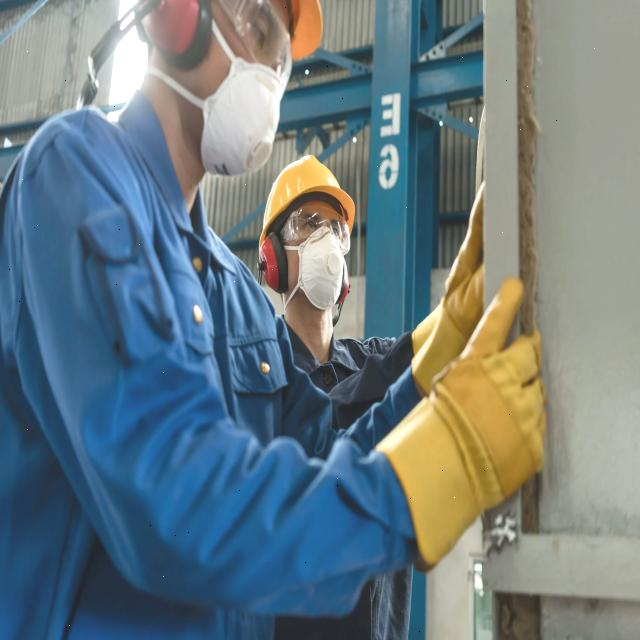Earmuffs: (115, 0, 212, 70), (261, 233, 288, 294), (337, 260, 350, 303)
Gloves: (376, 278, 545, 567), (413, 186, 484, 394)
Hardhat: (259, 156, 355, 245), (290, 0, 322, 60)
Mask: (147, 20, 282, 176), (286, 229, 345, 309)
Overall Suit: (0, 93, 419, 640), (287, 327, 413, 431), (274, 567, 413, 640)
